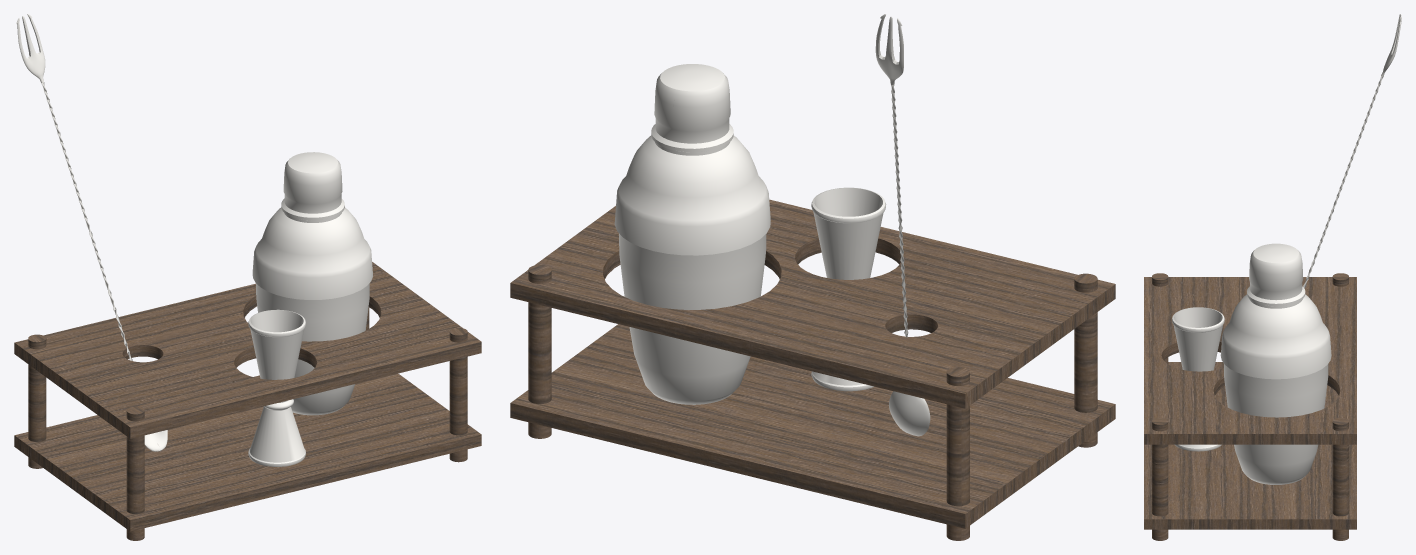
File: bar set.fbx
3 views of the same model, side by side, from view 1: azimuth 30°, elevation 25°; view 2: azimuth 150°, elevation 25°; view 3: azimuth 270°, elevation 25° (orthographic). The views are drawn at different scales.
Visible parts, largest first — view 1: stand, shaker, cup, spoon; view 2: stand, shaker, cup, spoon; view 3: stand, shaker, cup, spoon.
Part boxes in pixels (bbox=[...]): stand: bbox=[14, 262, 481, 540]; shaker: bbox=[252, 152, 372, 415]; cup: bbox=[248, 309, 305, 466]; spoon: bbox=[16, 14, 167, 451]; stand: bbox=[510, 199, 1115, 540]; shaker: bbox=[614, 64, 770, 404]; cup: bbox=[811, 187, 886, 391]; spoon: bbox=[875, 14, 930, 436]; stand: bbox=[1144, 273, 1356, 540]; shaker: bbox=[1220, 243, 1331, 484]; cup: bbox=[1172, 307, 1224, 451]; spoon: bbox=[1303, 14, 1401, 288].
Bounding box in the file's own units: 0.2249 × 0.2577 × 0.1558.
